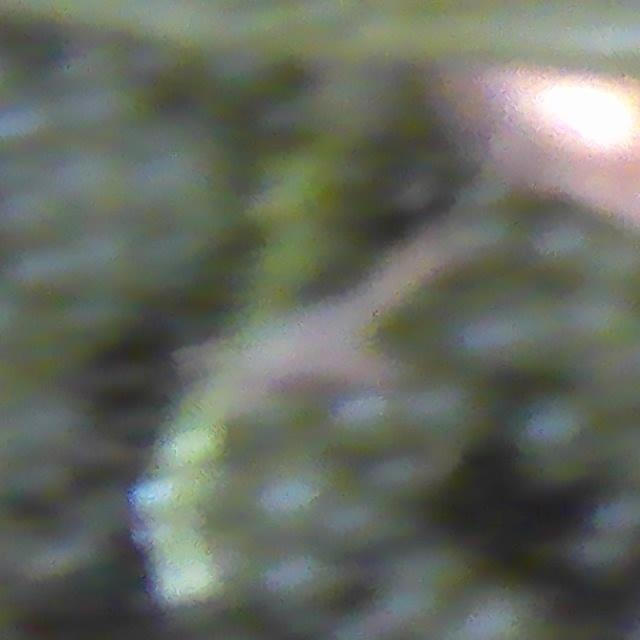SeaGrape: (254, 455, 326, 530), (517, 393, 588, 459)
